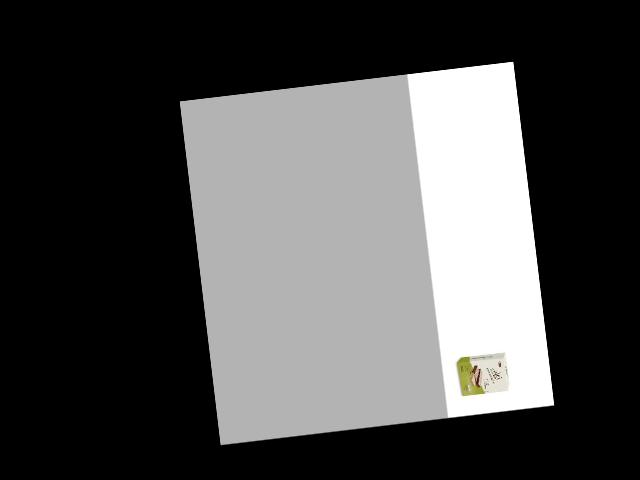chocolate: (454, 349, 510, 397)
